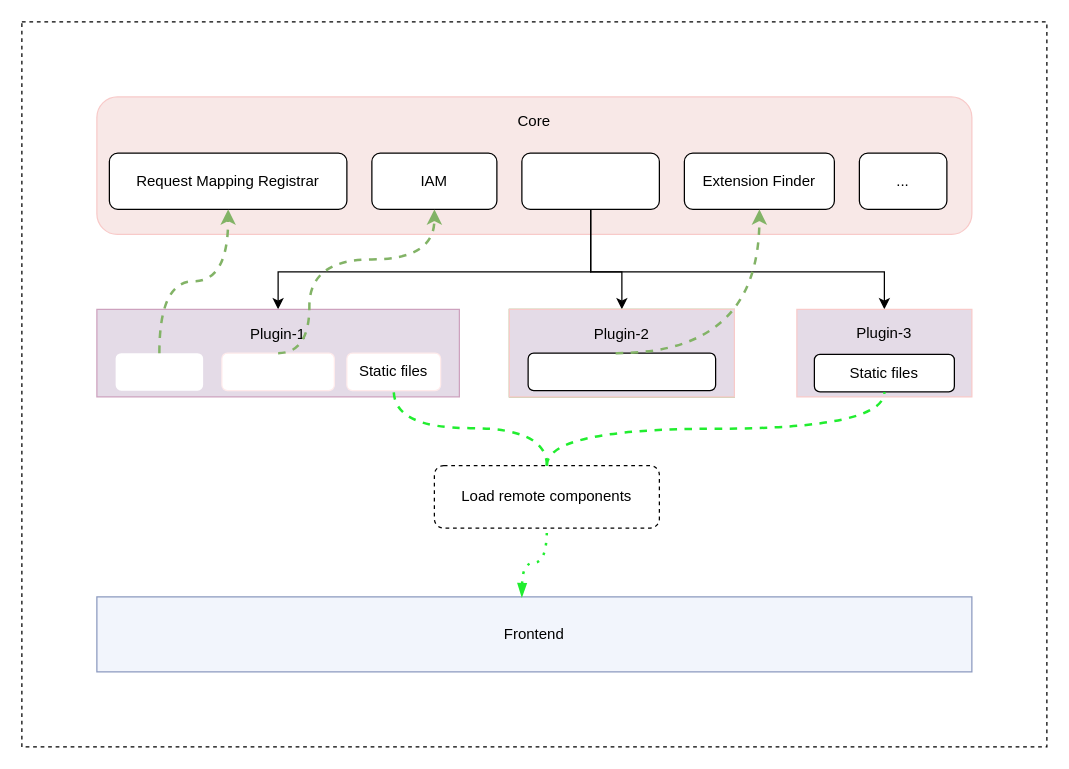
Some shapes in this 1069 by 769 pixel diagram are drawn without their labels. Here are the shapes that lost their labels. From the top down, the box of each, then its label:
(521, 152, 659, 209): PluginManager
(115, 352, 202, 390): APIs
(221, 352, 334, 391): Role templates
(527, 352, 716, 391): Extension points
